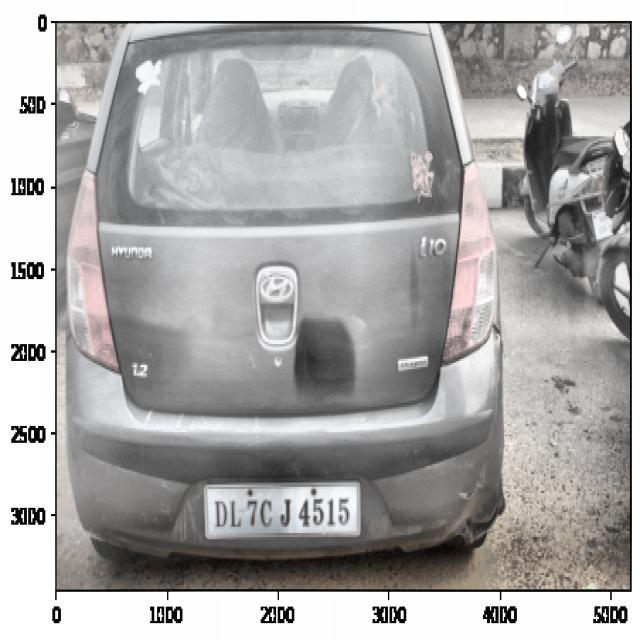license_plate: (208, 487, 358, 535)
